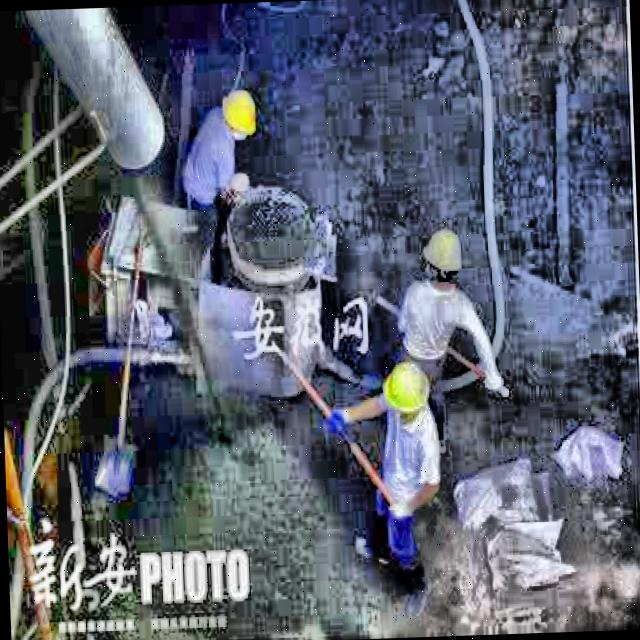helmet: (380, 356, 433, 428), (422, 221, 466, 291), (216, 87, 260, 144)
